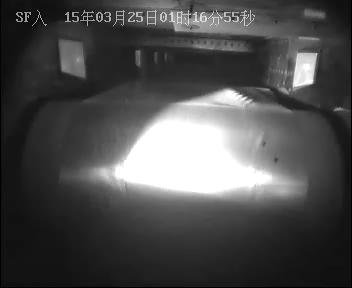wrinkled steel: (247, 127, 268, 203), (221, 82, 268, 113)
